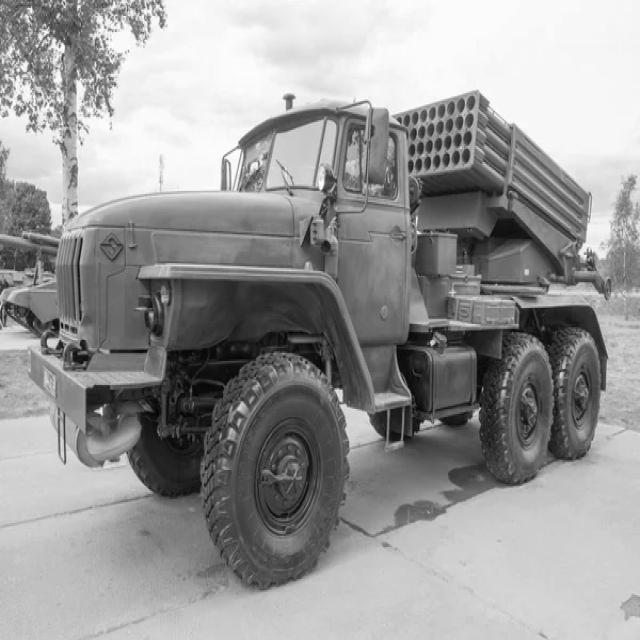Truck: (28, 90, 611, 588)
